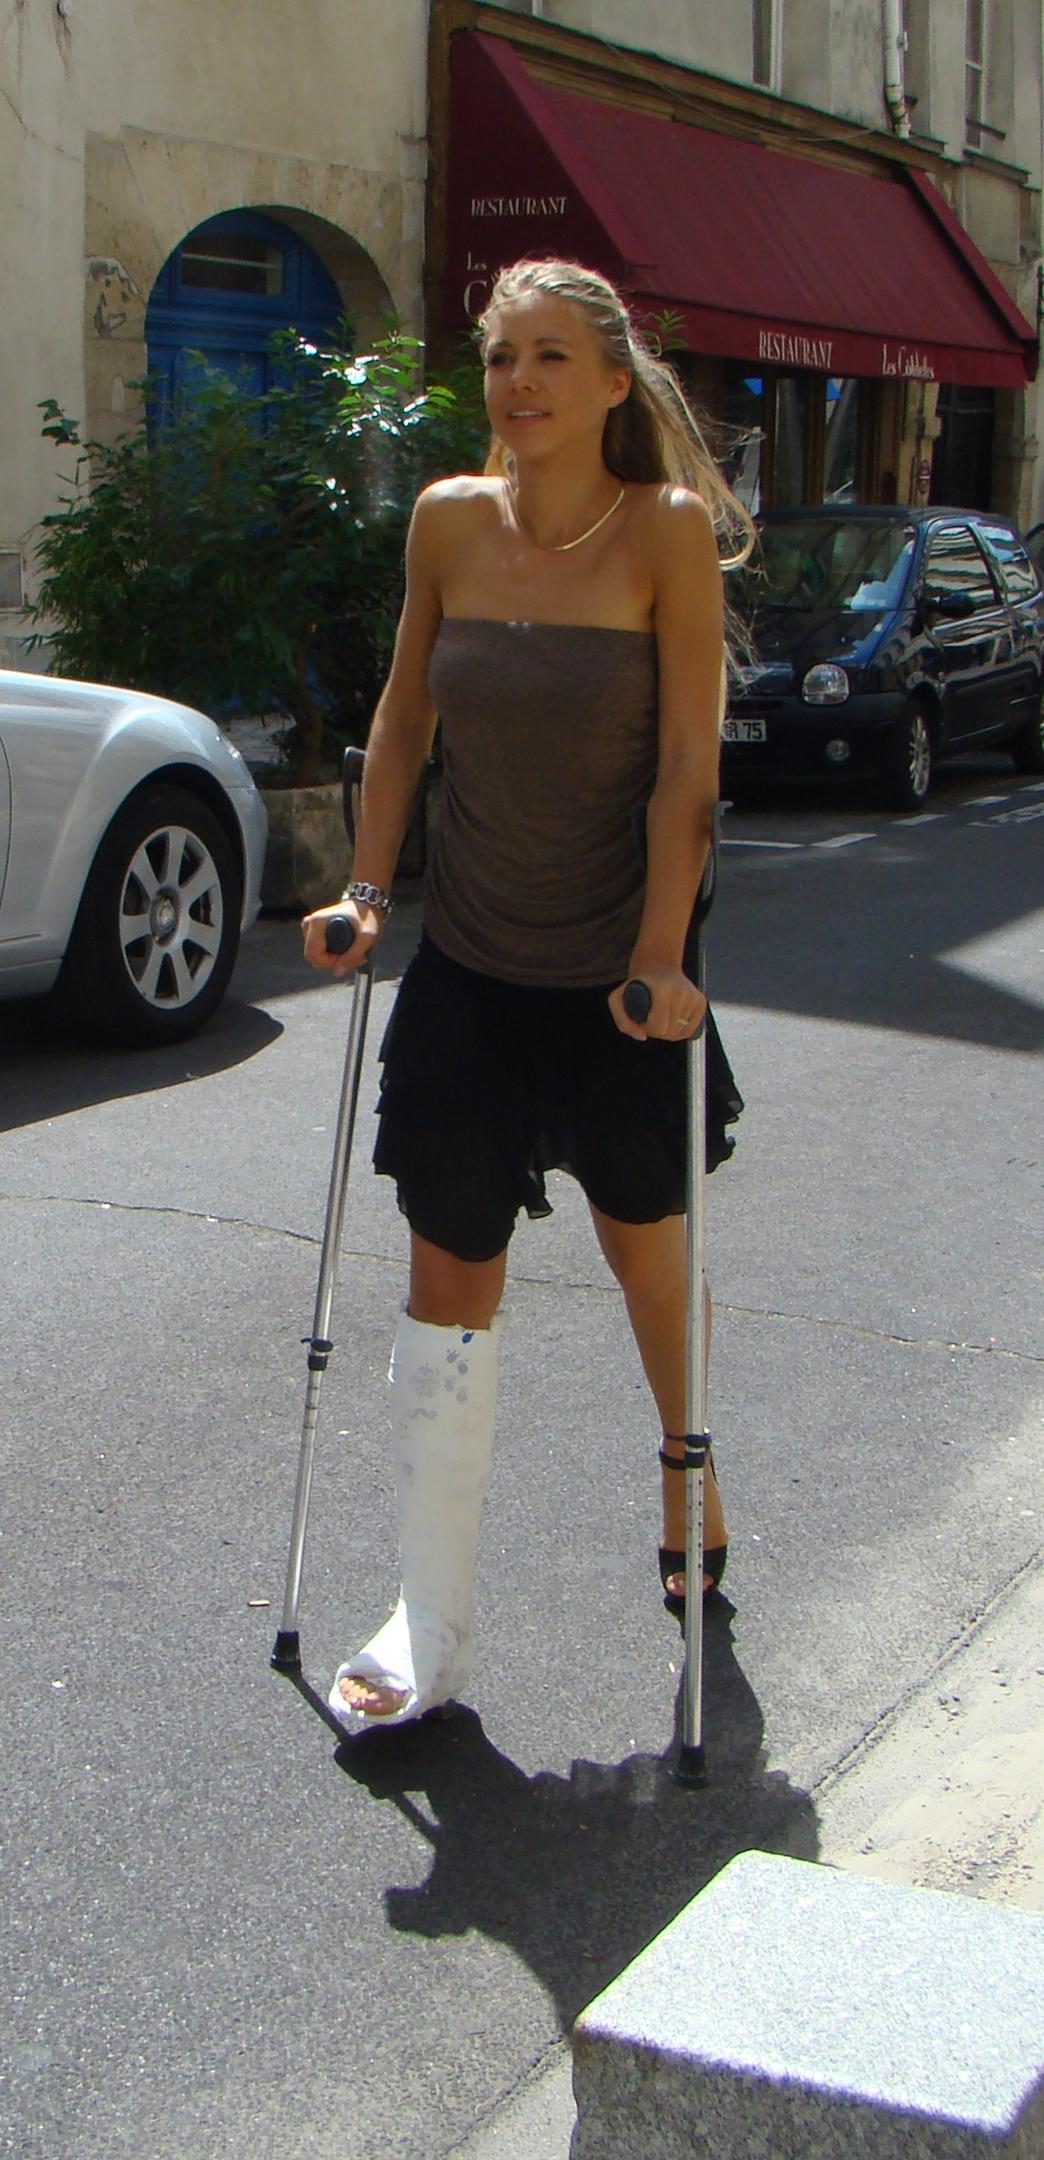crutches: (271, 262, 749, 1791)
